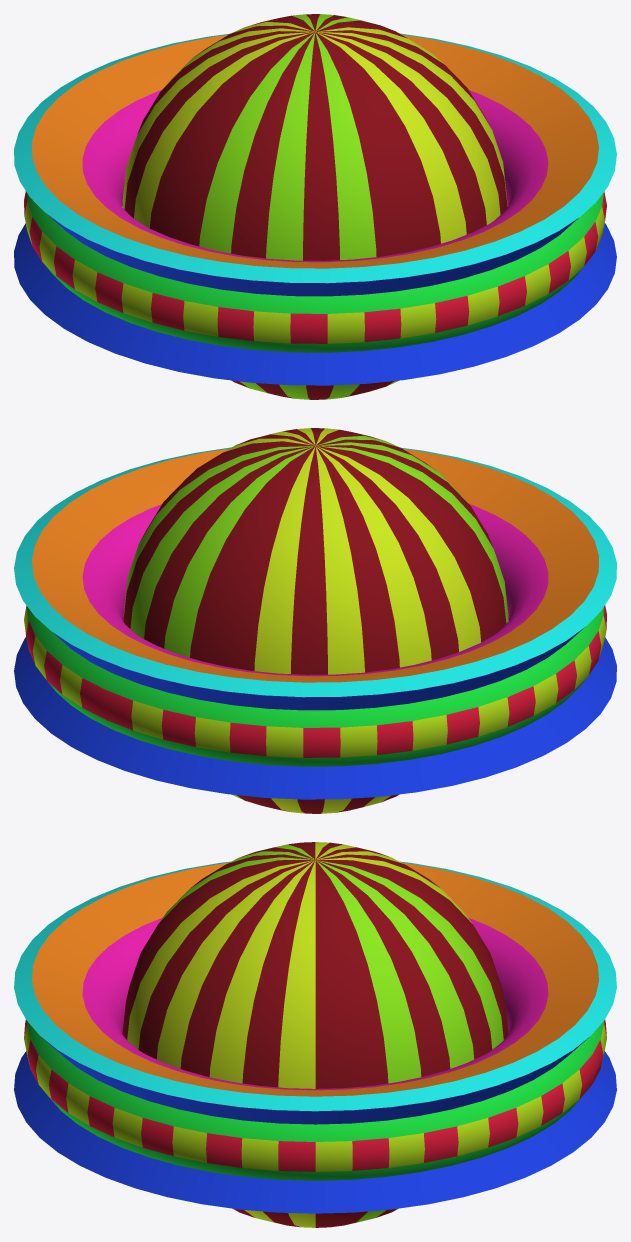
The picture shows the model from 3 angles, top to bottom: view 1: azimuth 30°, elevation 25°; view 2: azimuth 150°, elevation 25°; view 3: azimuth 270°, elevation 25°; orthographic projection.
Parts seen in each view (by area): view 1: Объект_Тор, Объект_Сфера; view 2: Объект_Тор, Объект_Сфера; view 3: Объект_Тор, Объект_Сфера.
Part boxes in pixels (box(x1,y1,x2,y2)): Объект_Тор: box(14, 33, 616, 385); Объект_Сфера: box(122, 14, 507, 399); Объект_Тор: box(14, 447, 616, 799); Объект_Сфера: box(123, 428, 508, 813); Объект_Тор: box(14, 861, 616, 1213); Объект_Сфера: box(122, 842, 508, 1227).
Bounding box in the file's own units: 1.25 × 0.8 × 1.25.
